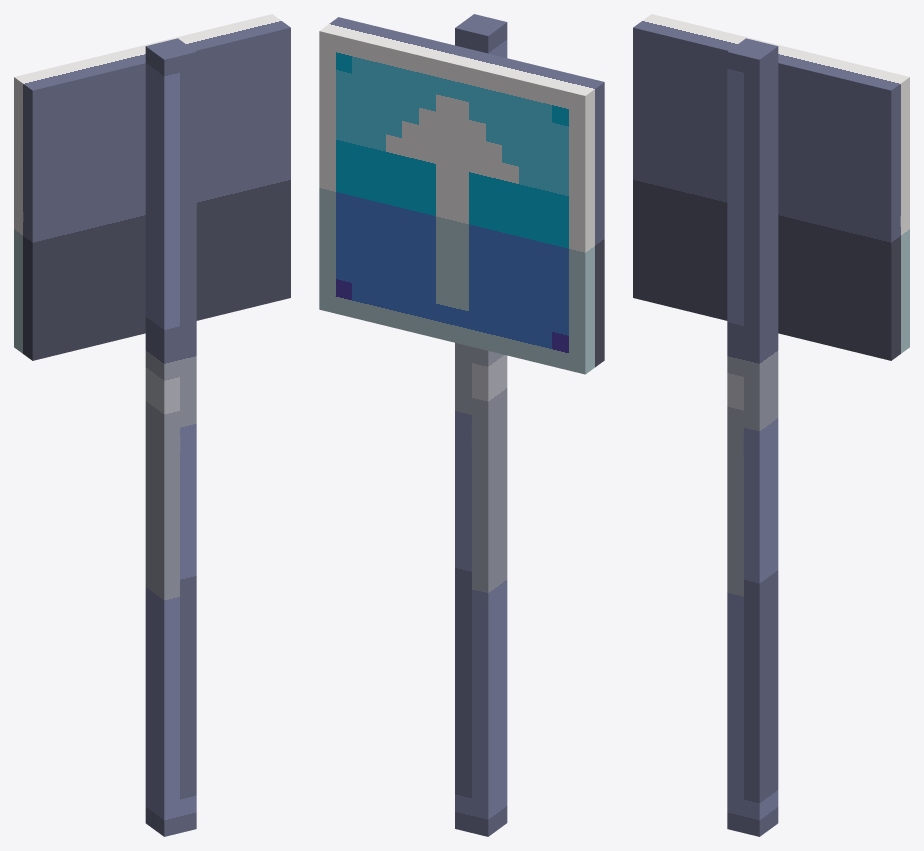
Rendered from directional-street-sign-up.gltf.
3 renders of one model, left to right at view 1: azimuth 30°, elevation 25°; view 2: azimuth 150°, elevation 25°; view 3: azimuth 330°, elevation 25°, orthographic. The views are drawn at different scales.
Visible parts, largest first — view 1: cube (×2); view 2: cube (×2); view 3: cube (×2).
Part boxes in pixels (x1,y1,x2,y2): cube (×2): (14, 14, 290, 836); cube (×2): (319, 14, 604, 836); cube (×2): (633, 14, 909, 836).
Bounding box in the file's own units: 1 × 2.88 × 0.25.
1 material, 1 textured.
